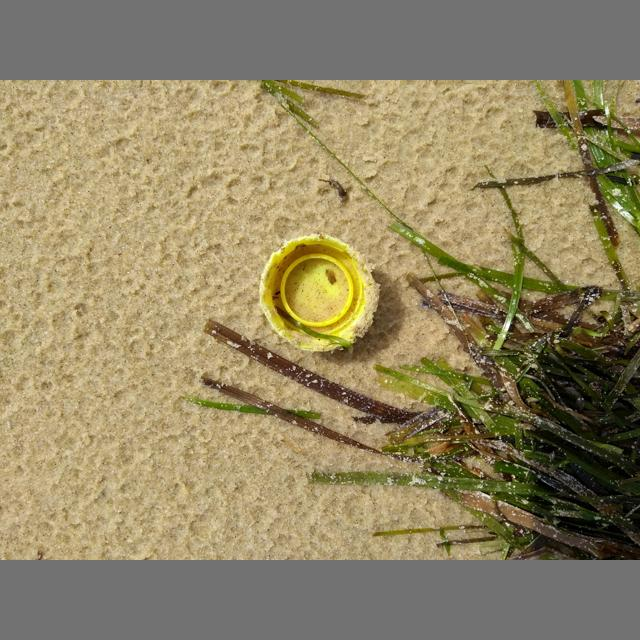litter: (258, 235, 372, 351)
